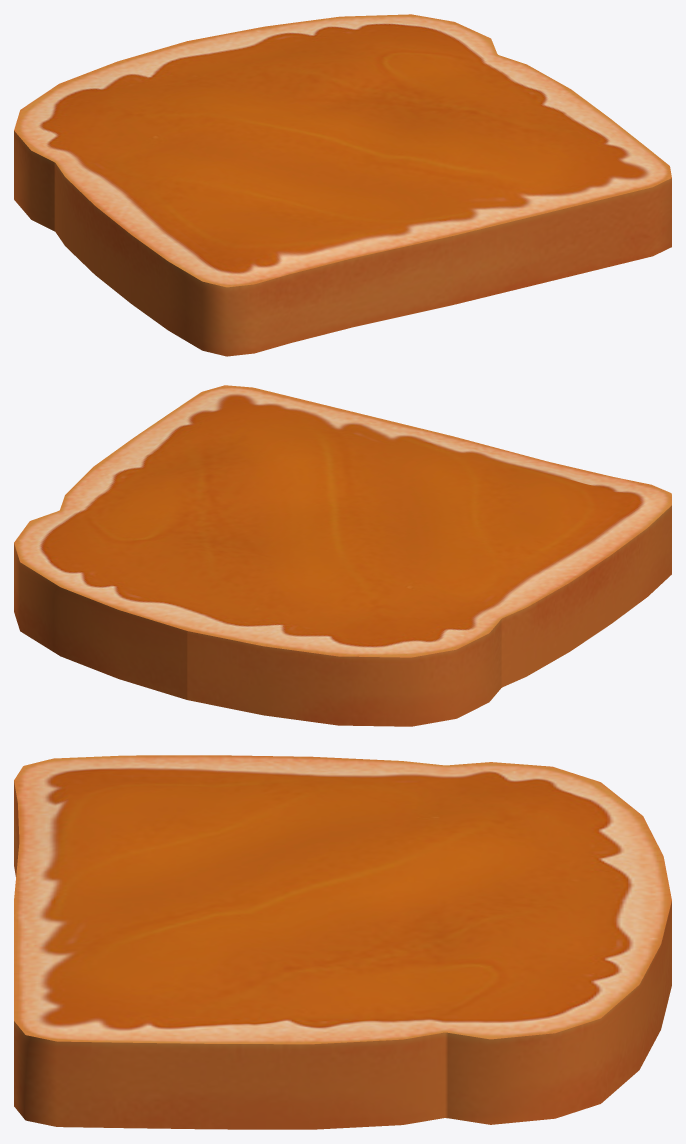
File: ToastBlueBerry.fbx
The picture shows the model from 3 angles, top to bottom: view 1: azimuth 30°, elevation 25°; view 2: azimuth 150°, elevation 25°; view 3: azimuth 270°, elevation 25°; orthographic projection. The views are drawn at different scales.
Visible parts, largest first — view 1: ToastButter_1; view 2: ToastButter_1; view 3: ToastButter_1.
Part boxes in pixels (x1,y1,x2,y2): ToastButter_1: (14, 14, 671, 356); ToastButter_1: (14, 385, 671, 726); ToastButter_1: (14, 755, 671, 1129).
Bounding box in the file's own units: 66.58 × 10.89 × 64.06.
1 material, 1 textured.
